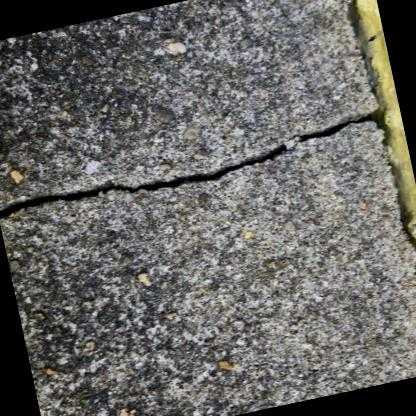crack: (0, 0, 416, 280)
